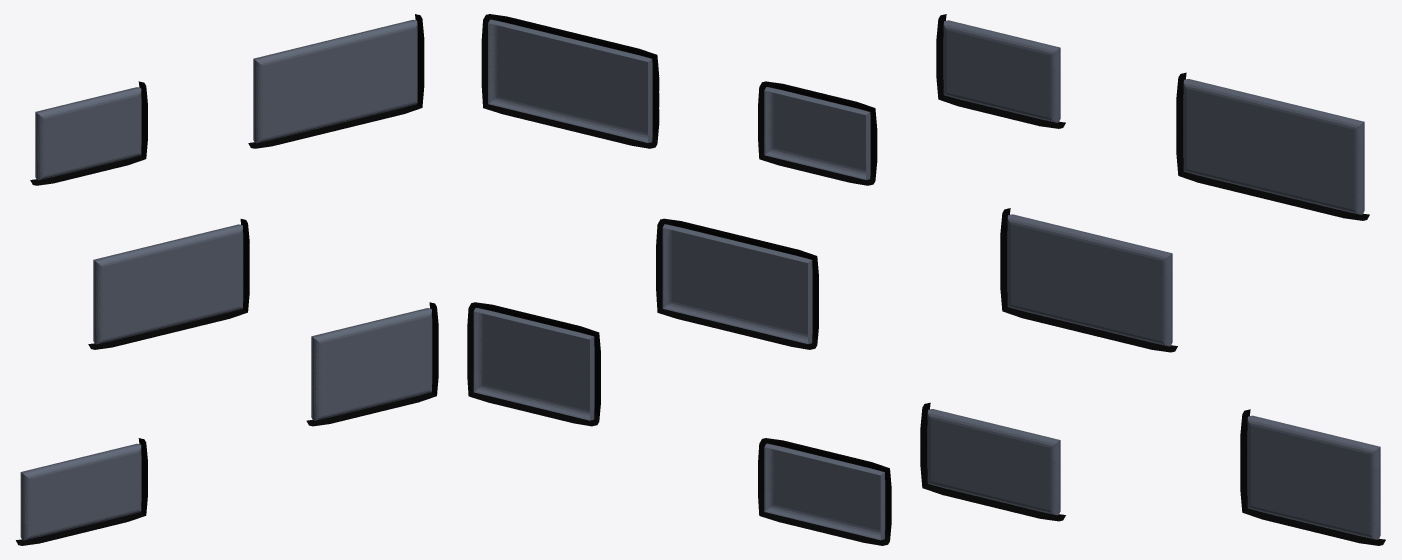
File: wall_climbable.fbx
The picture shows the model from 3 angles, left to right: view 1: azimuth 30°, elevation 25°; view 2: azimuth 150°, elevation 25°; view 3: azimuth 330°, elevation 25°; orthographic projection. The views are drawn at different scales.
Parts seen in each view (by area): view 1: wall_climbable, wall_climbable_outline; view 2: wall_climbable, wall_climbable_outline; view 3: wall_climbable, wall_climbable_outline.
Part boxes in pixels (x1=…): wall_climbable: x1=20, y1=19, x2=432, y2=540; wall_climbable_outline: x1=16, y1=14, x2=438, y2=545; wall_climbable: x1=473, y1=19, x2=885, y2=540; wall_climbable_outline: x1=467, y1=14, x2=891, y2=545; wall_climbable: x1=927, y1=20, x2=1380, y2=539; wall_climbable_outline: x1=920, y1=14, x2=1385, y2=545.
Size of the model in its own units: 93.43 by 92.47 by 3.98.
